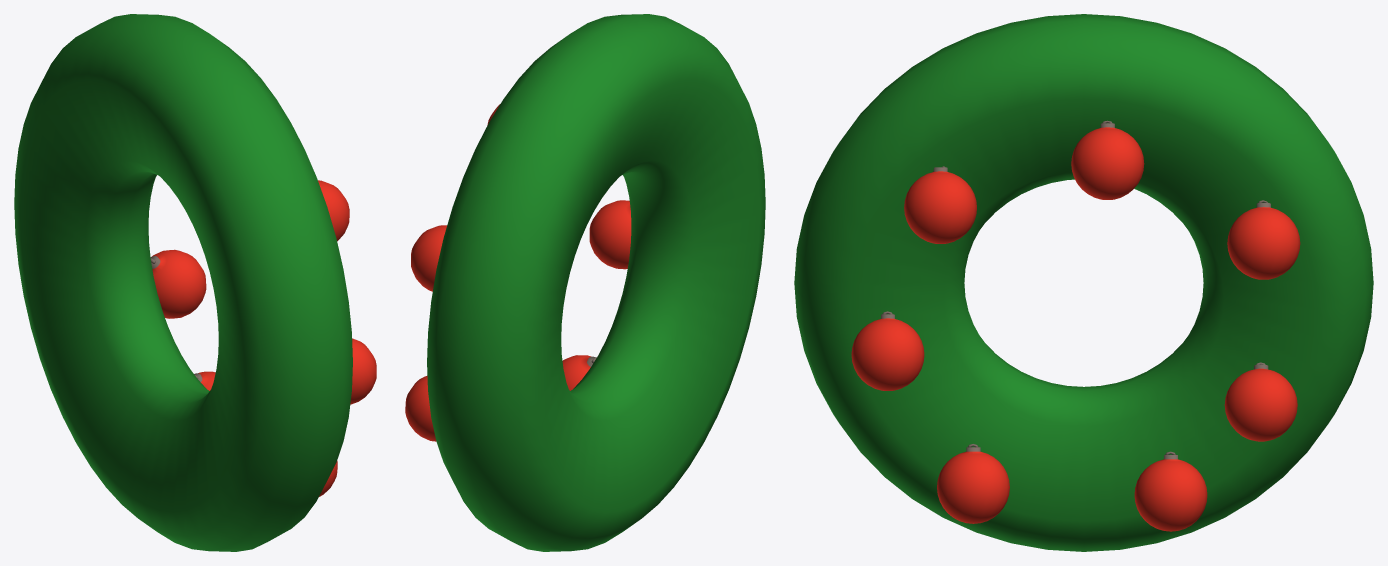
Rendered from KerstKrans.fbx.
The picture shows the model from 3 angles, left to right: view 1: azimuth 30°, elevation 25°; view 2: azimuth 150°, elevation 25°; view 3: azimuth 270°, elevation 25°; orthographic projection. The views are drawn at different scales.
Visible parts, largest first — view 1: Torus, Cylinder.002, Cylinder, Cylinder.006; view 2: Torus, Cylinder, Cylinder.001, Cylinder.002, Cylinder.003; view 3: Torus, Cylinder.004, Cylinder.003, Cylinder.001, Cylinder.005, Cylinder, Cylinder.002, Cylinder.006.
Part boxes in pixels (box(x1,y1,x2,y2)): Torus: box(14, 14, 352, 551); Cylinder.002: box(150, 249, 206, 318); Cylinder: box(350, 338, 376, 404); Cylinder.006: box(318, 180, 349, 241); Torus: box(427, 14, 765, 551); Cylinder: box(589, 200, 631, 269); Cylinder.001: box(411, 225, 446, 291); Cylinder.002: box(405, 376, 436, 441); Cylinder.003: box(562, 355, 596, 390); Torus: box(794, 14, 1373, 551); Cylinder.004: box(1134, 451, 1207, 531); Cylinder.003: box(937, 444, 1009, 523); Cylinder.001: box(1227, 200, 1300, 279); Cylinder.005: box(1071, 120, 1144, 199); Cylinder: box(851, 311, 924, 390); Cylinder.002: box(1224, 362, 1297, 441); Cylinder.006: box(904, 166, 976, 243).
Bounding box in the file's own units: 0.8152 × 2.5 × 2.5.
